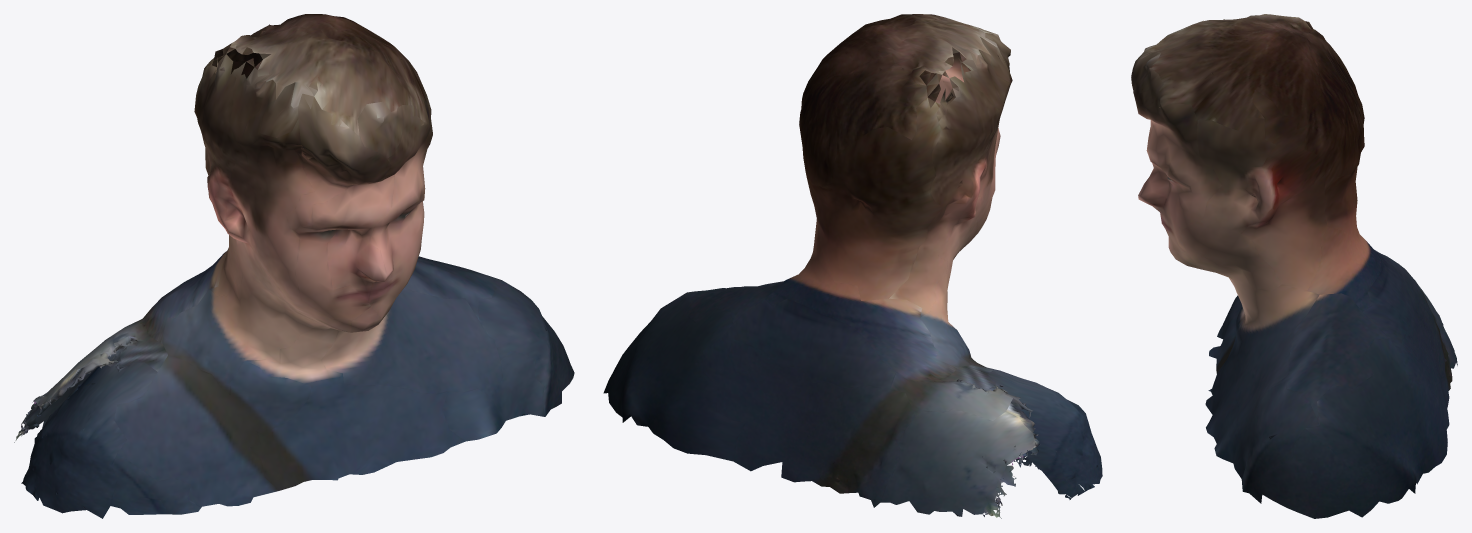
File: yarik-ps2.glb
3 renders of one model, left to right at view 1: azimuth 30°, elevation 25°; view 2: azimuth 150°, elevation 25°; view 3: azimuth 270°, elevation 25°, orthographic. The views are drawn at different scales.
Visible parts, largest first — view 1: Object; view 2: Object; view 3: Object.
Boxes of the visible parts, box(x1,y1,x2,y2) form: Object: box(14, 14, 574, 518); Object: box(603, 14, 1102, 518); Object: box(1131, 14, 1457, 518).
Bounding box in the file's own units: 0.5366 × 0.4218 × 0.3324.
1 material, 1 textured.
